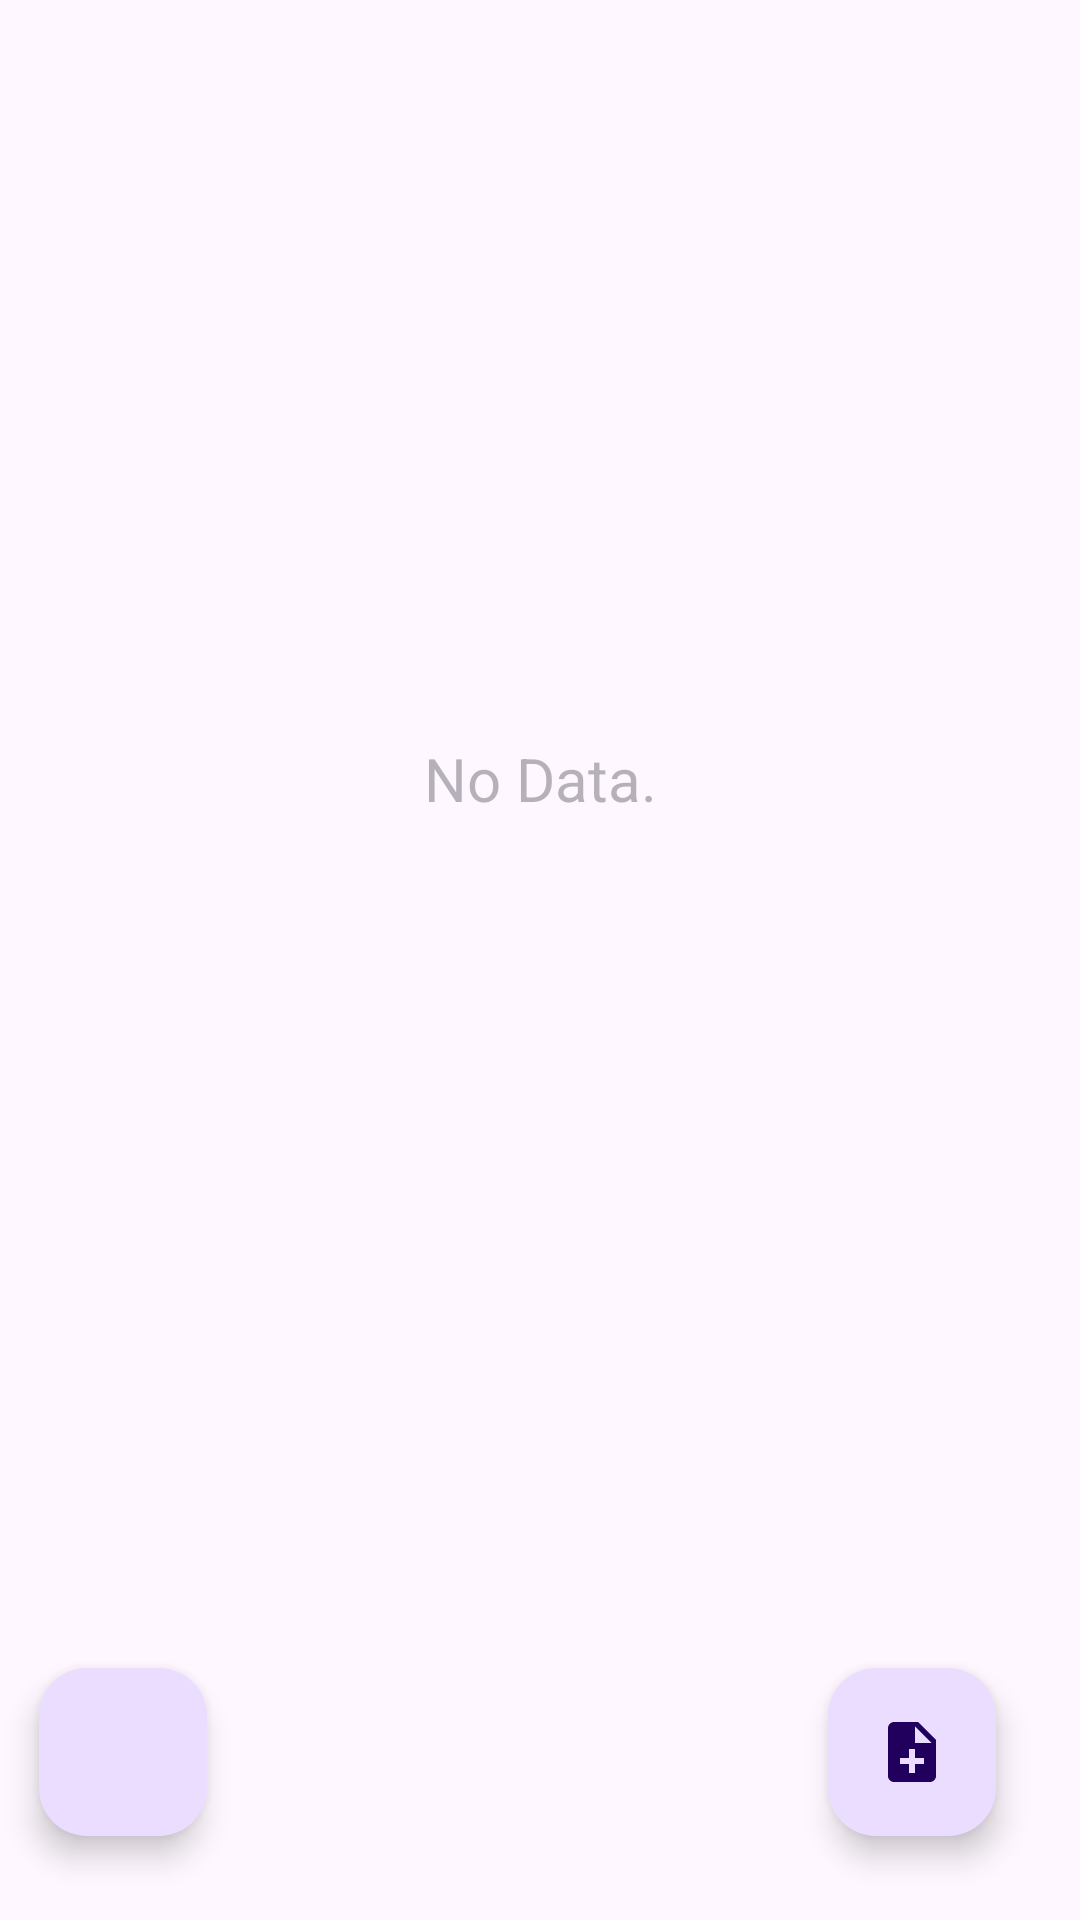

Where icons sit on this 1080*1920 app screen, as [x1,y1,x2,y2]:
add: [828,1668,996,1836]
